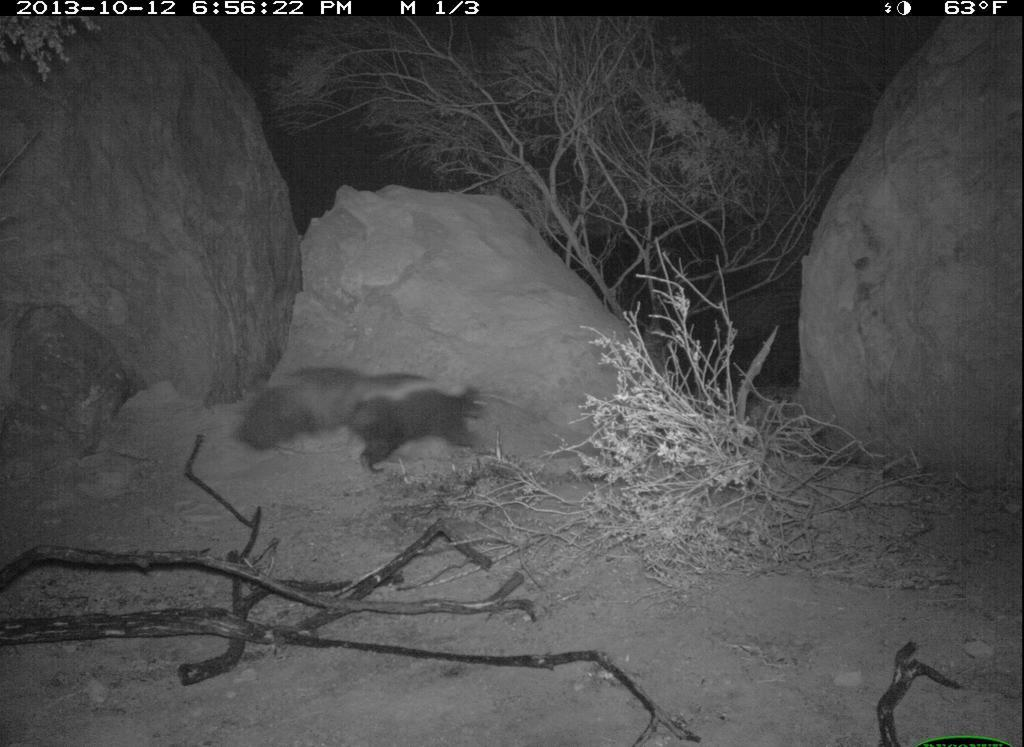skunk: (240, 356, 497, 483)
